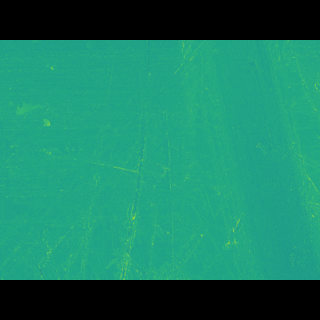Loch: (0, 141, 320, 249), (174, 68, 320, 249)
